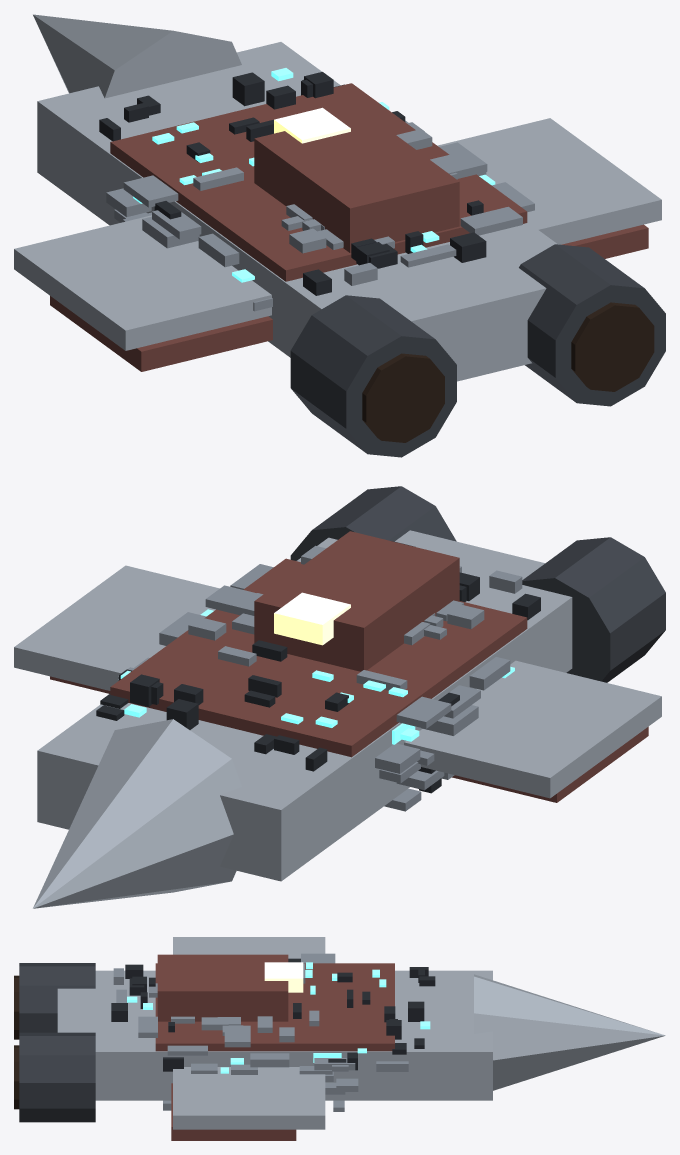
The model's file is troyden_frigate.glb.
The picture shows the model from 3 angles, top to bottom: view 1: azimuth 30°, elevation 25°; view 2: azimuth 150°, elevation 25°; view 3: azimuth 270°, elevation 25°; orthographic projection. The views are drawn at different scales.
Visible parts, largest first — view 1: hull, engines; view 2: hull, engines; view 3: hull, engines.
Boxes of the visible parts, x1,y1,x2,y2 form: hull: [14, 14, 661, 381]; engines: [290, 244, 665, 457]; hull: [14, 530, 661, 908]; engines: [290, 486, 665, 682]; hull: [57, 937, 665, 1140]; engines: [14, 963, 95, 1122].
Bounding box in the file's own units: 35.39 × 11.48 × 54.59.
